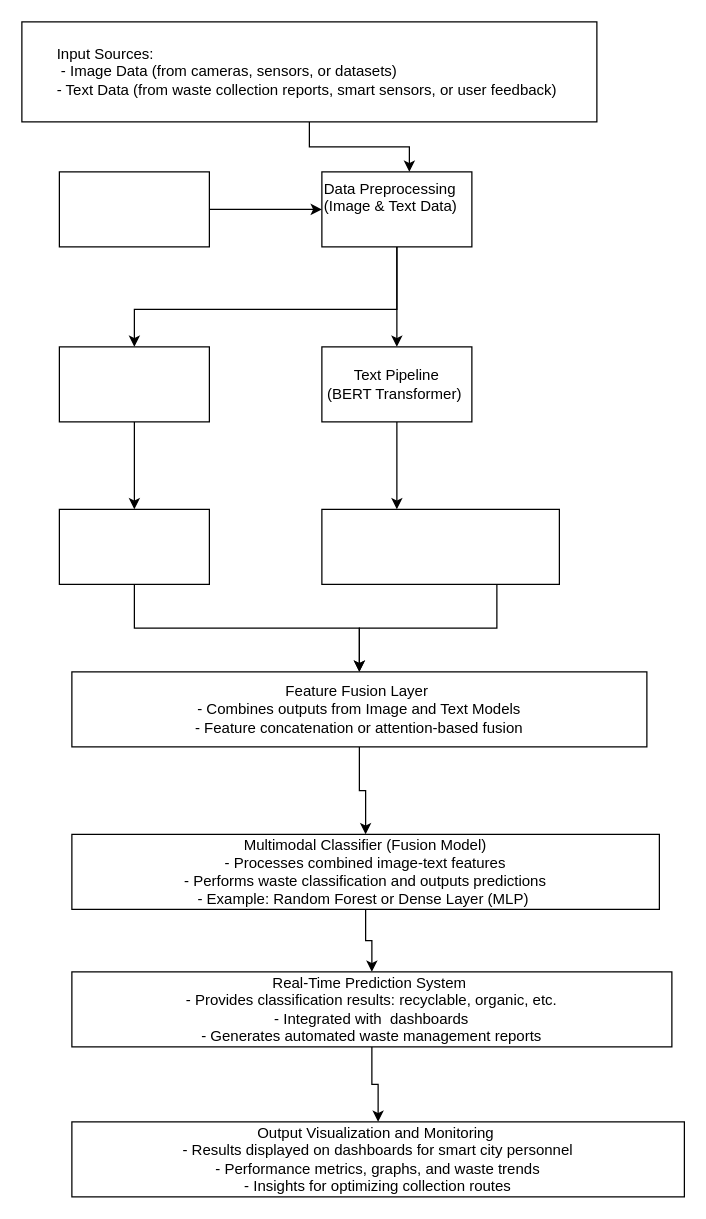
The diagram is 706 pixels wide and 1219 high, and some of its shapes have lost their labels. The shapes that lost their labels are listed below. From the top down, each one's centre as x and y in pixels, then its label:
At [133,209]: "Data Collection".
At [133,384]: "Image Pipeline (CNN/ResNet50)".
At [133,546]: "Image Feature Extraction - ResNet50 Model".
At [440,546]: "Text Feature Extraction - Tokenization, Embedding - Transformer Output".
